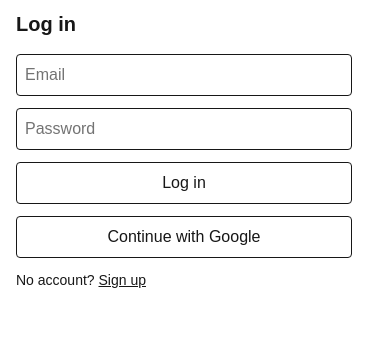
Test: shows error message on Google login failure
What coordinates should you click on to do the following:
click the button "Continue with Google"
I would click on:
 (184, 237)
Its box is [16,216,352,258].
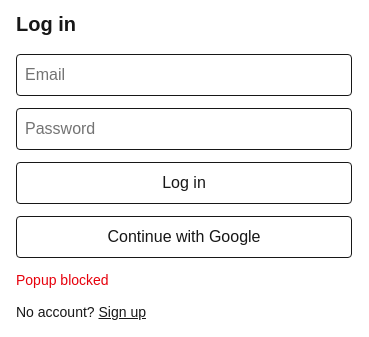
Check: the text "Popup blocked" is shown, box [16,272,109,288]
